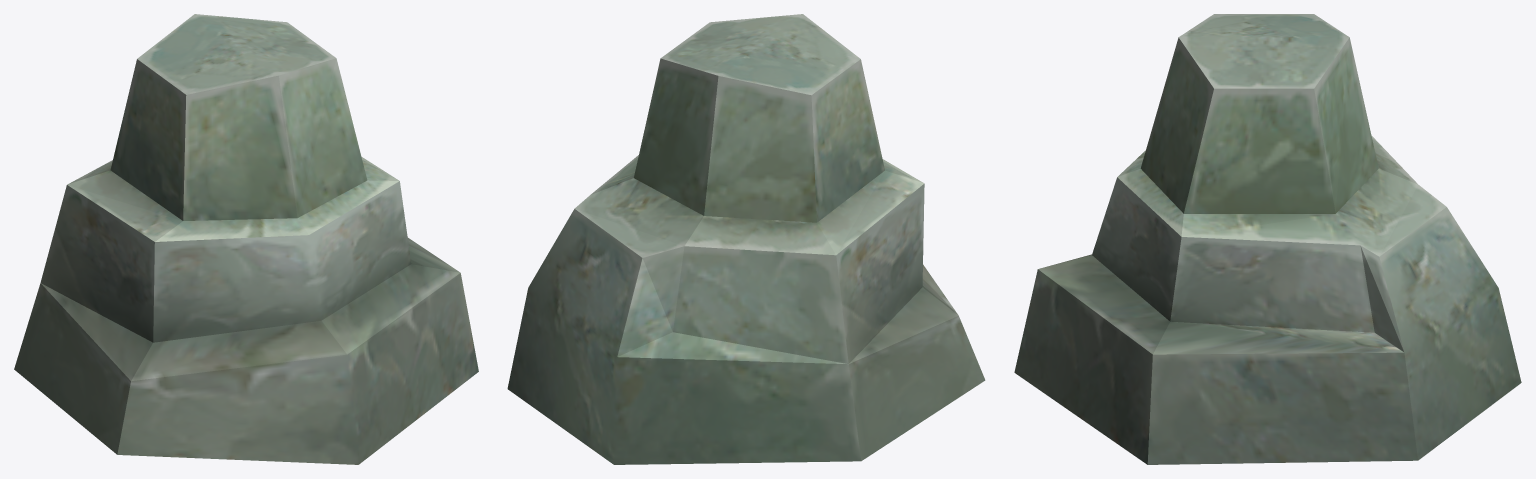
File: FB_ZhuLinXiaoXi_Shitou01.FBX
3 renders of one model, left to right at view 1: azimuth 30°, elevation 25°; view 2: azimuth 150°, elevation 25°; view 3: azimuth 270°, elevation 25°, orthographic.
Parts seen in each view (by area): view 1: Box05; view 2: Box05; view 3: Box05.
Boxes of the visible parts, box(x1,y1,x2,y2) form: Box05: box(14, 14, 478, 464); Box05: box(507, 14, 985, 464); Box05: box(1014, 14, 1521, 464).
Bounding box in the file's own units: 21.94 × 19.41 × 26.57.
